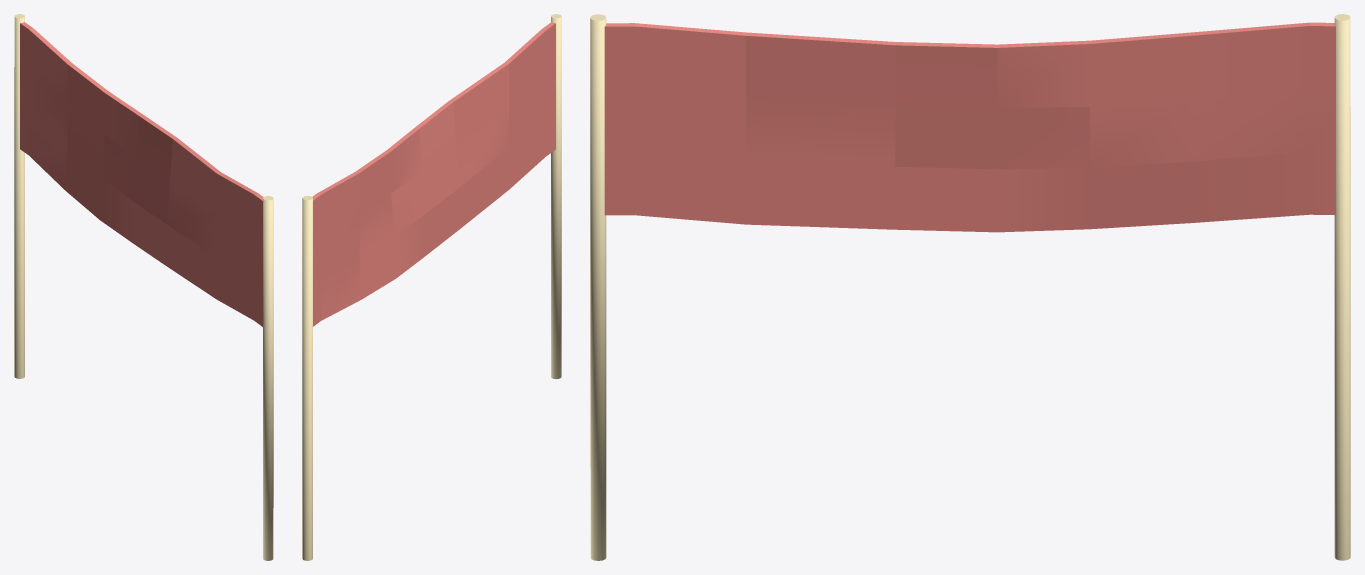
File: goalflag.fbx
The picture shows the model from 3 angles, left to right: view 1: azimuth 30°, elevation 25°; view 2: azimuth 150°, elevation 25°; view 3: azimuth 270°, elevation 25°; orthographic projection. The views are drawn at different scales.
Parts seen in each view (by area): view 1: goal2__1_; view 2: goal2__1_; view 3: goal2__1_.
Boxes of the visible parts, x1,y1,x2,y2 form: goal2__1_: (14,14,273,560); goal2__1_: (302,14,561,560); goal2__1_: (590,14,1350,560).
Size of the model in its own units: 60.61 by 1595 by 2035.
